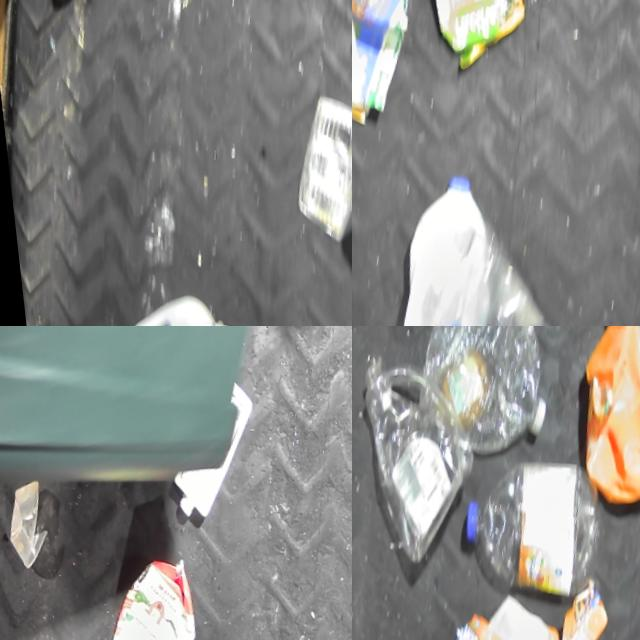milk_jug: (363, 170, 499, 326), (387, 588, 570, 640), (93, 276, 210, 326)
non_white_jug: (546, 326, 640, 526), (76, 545, 197, 640)
plastic_bottle: (439, 446, 608, 623), (397, 326, 566, 475)
